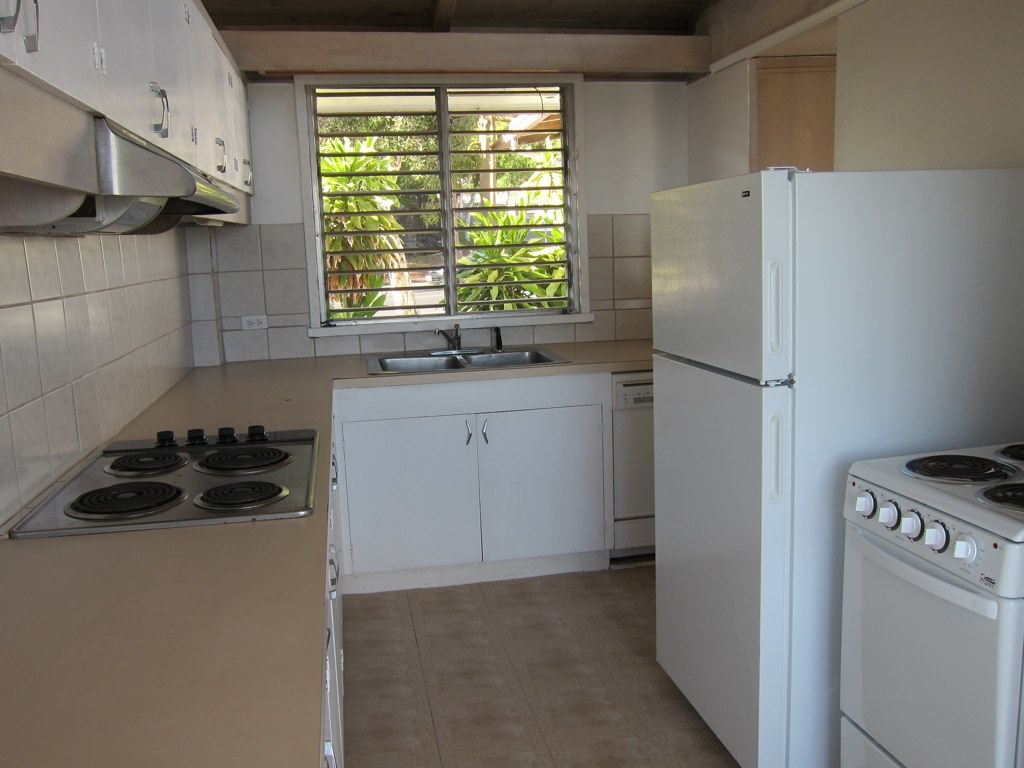cabinet door: (334, 406, 478, 558), (478, 404, 601, 549), (135, 16, 195, 146), (77, 9, 142, 126), (185, 39, 222, 164), (226, 75, 254, 187)
handle: (854, 530, 1003, 620), (761, 259, 790, 359), (766, 407, 791, 506), (147, 80, 170, 141), (209, 132, 231, 178), (237, 155, 260, 196), (457, 418, 474, 450), (481, 415, 494, 444)
refrigerator door: (654, 371, 795, 688), (647, 181, 790, 367)
